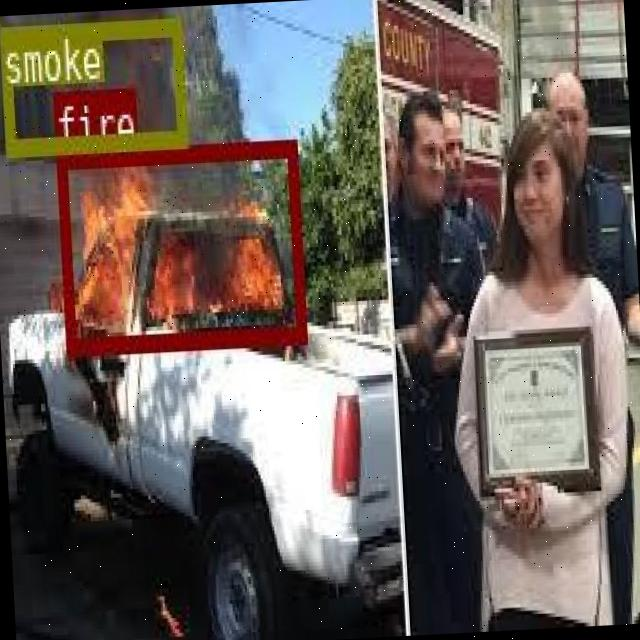fire: (55, 138, 304, 352)
smoke: (0, 16, 184, 152)
